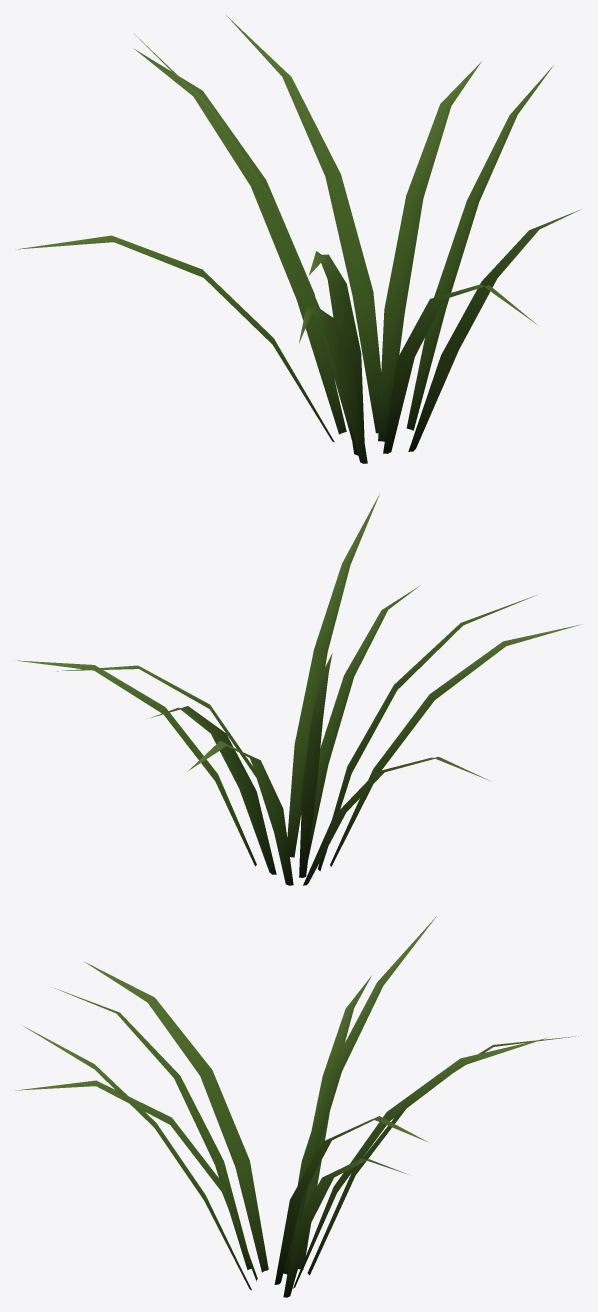
File: b612_veg_VL_Grass_BroadBlade_A_0.glb
The picture shows the model from 3 angles, top to bottom: view 1: azimuth 30°, elevation 25°; view 2: azimuth 150°, elevation 25°; view 3: azimuth 270°, elevation 25°; orthographic projection. The views are drawn at different scales.
Parts seen in each view (by area): view 1: Grass_BroadBlade_A_LOD0; view 2: Grass_BroadBlade_A_LOD0; view 3: Grass_BroadBlade_A_LOD0.
Boxes of the visible parts, box(x1,y1,x2,y2) form: Grass_BroadBlade_A_LOD0: box(15, 15, 581, 463); Grass_BroadBlade_A_LOD0: box(14, 494, 581, 885); Grass_BroadBlade_A_LOD0: box(15, 916, 581, 1297).
Size of the model in its own units: 0.7275 by 0.4631 by 0.7757.
